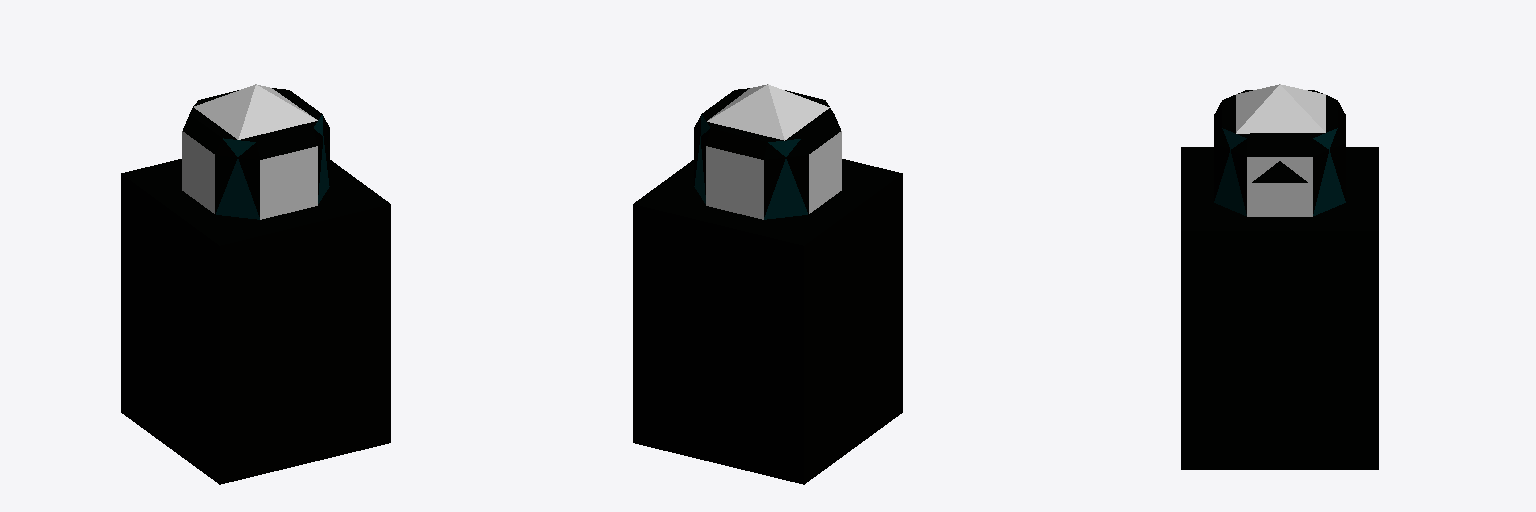
File: door_dungeon.obj
3 renders of one model, left to right at view 1: azimuth 30°, elevation 25°; view 2: azimuth 150°, elevation 25°; view 3: azimuth 270°, elevation 25°, orthographic.
Visible parts, largest first — view 1: Plane; view 2: Plane; view 3: Plane.
Part boxes in pixels (x1,y1,x2,y2): Plane: (121,84,390,484); Plane: (633,84,902,484); Plane: (1181,84,1378,469).
Size of the model in its own units: 12 by 23 by 12.